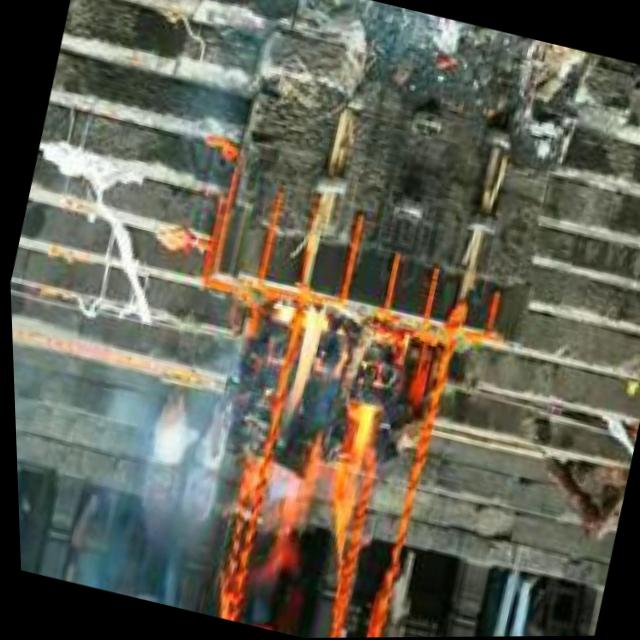Fire: (224, 298, 401, 576)
